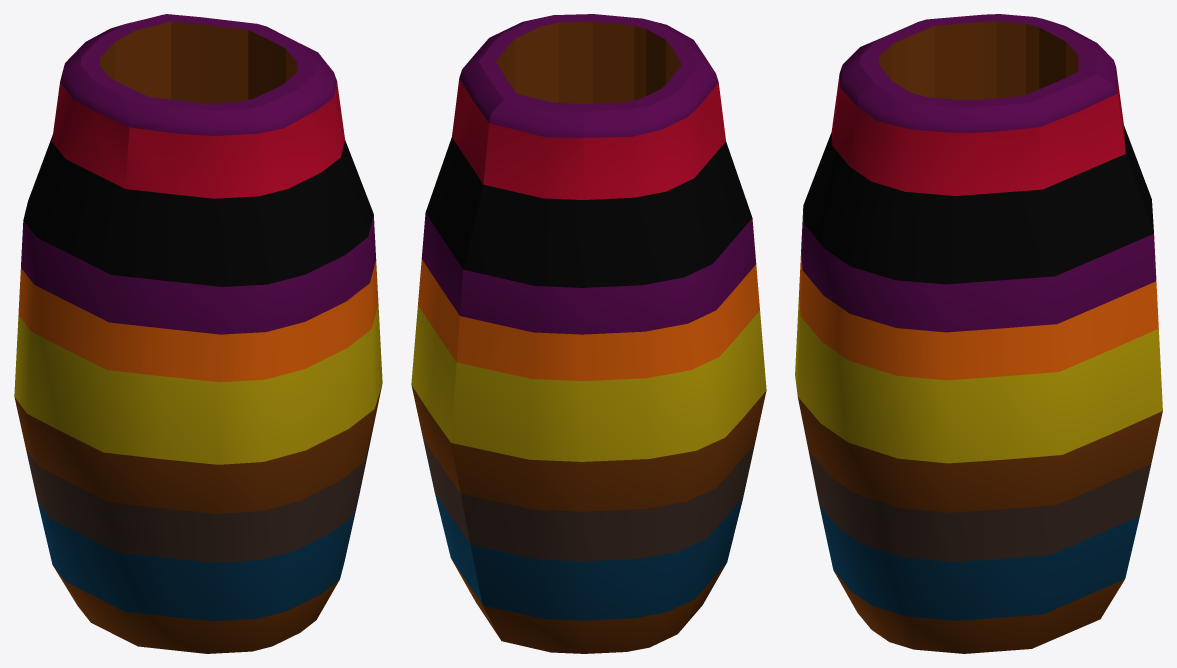
The model's file is Urn.fbx.
3 views of the same model, side by side, from view 1: azimuth 30°, elevation 25°; view 2: azimuth 150°, elevation 25°; view 3: azimuth 270°, elevation 25° (orthographic).
Visible parts, largest first — view 1: Urn; view 2: Urn; view 3: Urn.
Part boxes in pixels (x1,y1,x2,y2): Urn: (14, 14, 382, 653); Urn: (411, 14, 766, 653); Urn: (795, 14, 1162, 653).
Bounding box in the file's own units: 3.2 × 5.38 × 3.29.
